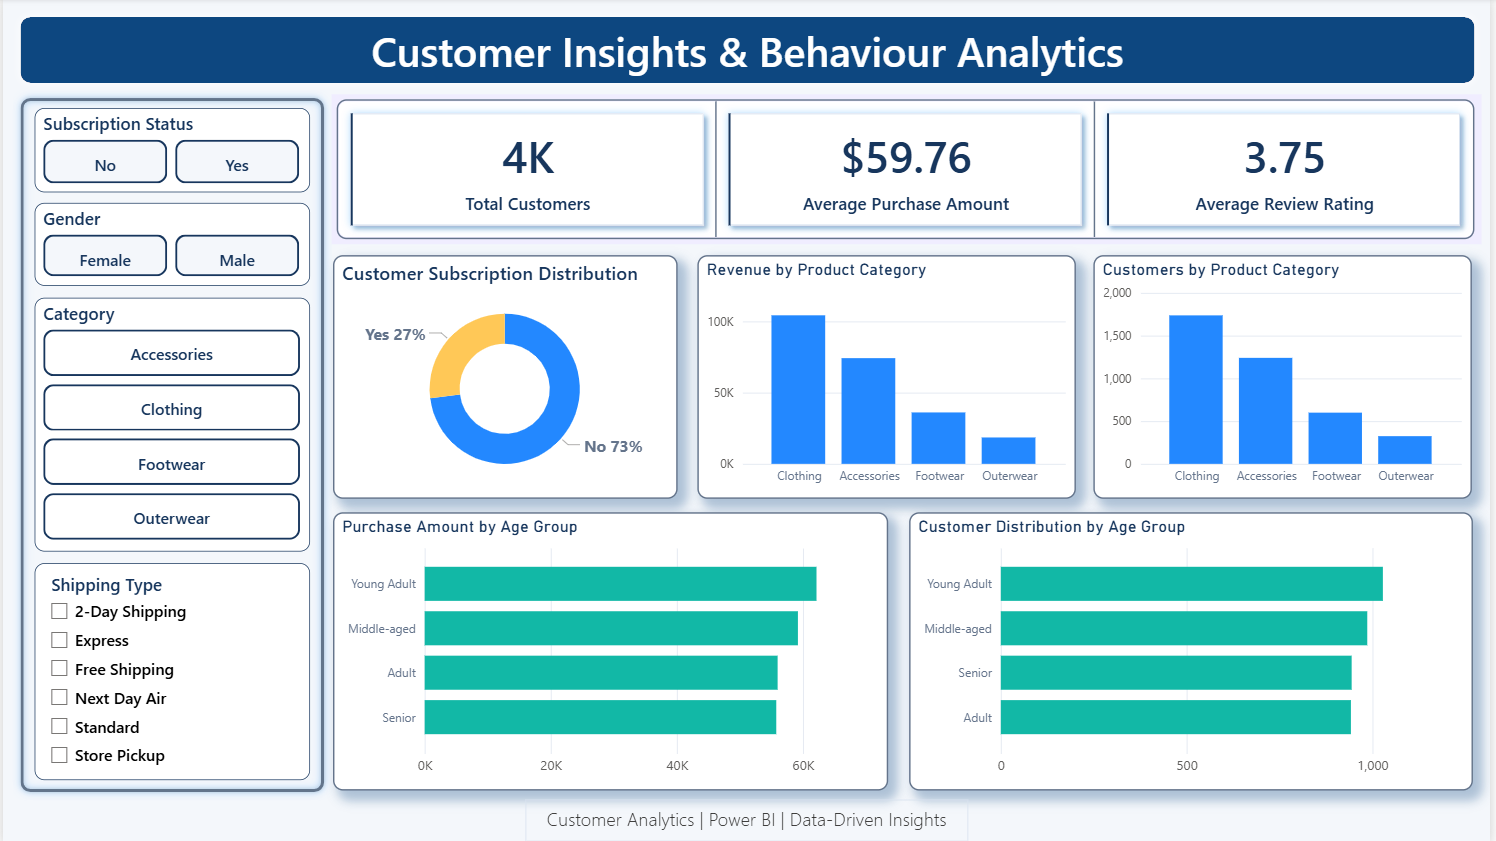

The dashboard page shown, as its layout file describes it:
{"tool":"powerbi","page":{"name":"Customer Insights & Behaviour Analytics","canvas":[1500,855],"ordinal":0},"visuals":[{"type":"shape","box":[9.5,93.4,322.2,716],"z":0},{"type":"cardVisual","fields":{"Data":["Measure_Table.Number of Customers","Measure_Table.Average Purchase Amount","Measure_Table.Average Review Rating"]},"box":[331.6,97.5,1160,151.6],"z":1000},{"type":"donutChart","title":"Customer Subscription Distribution","fields":{"Category":["customer_shopping_data.subscription_status"],"Y":["CountNonNull(customer_shopping_data.customer_id)"]},"box":[332.9,259.1,347.4,246.1],"z":2000},{"type":"clusteredColumnChart","title":"Revenue by Product Category","fields":{"Y":["Sum(customer_shopping_data.purchase_amount)"],"Category":["customer_shopping_data.category"]},"box":[700.6,259.1,382.2,246.1],"z":3000},{"type":"clusteredColumnChart","title":"Customers by Product Category","fields":{"Category":["customer_shopping_data.category"],"Y":["CountNonNull(customer_shopping_data.customer_id)"]},"box":[1100.2,259.1,382.2,246.1],"z":4000},{"type":"advancedSlicerVisual","title":"Subscription Status","fields":{"Values":["customer_shopping_data.subscription_status"]},"box":[32.5,111,277.5,85.3],"z":5000},{"type":"advancedSlicerVisual","title":"Gender","fields":{"Values":["customer_shopping_data.gender"]},"box":[32.5,207.1,277.5,83.9],"z":6000},{"type":"advancedSlicerVisual","title":"Category","fields":{"Values":["customer_shopping_data.category"]},"box":[31.8,302.5,277.9,256.2],"z":7000},{"type":"slicer","fields":{"Values":["customer_shopping_data.shipping_type"]},"box":[31.8,570.4,277.9,218.6],"z":8000},{"type":"clusteredBarChart","title":"Purchase Amount by Age Group","fields":{"Y":["Sum(customer_shopping_data.purchase_amount)"],"Category":["customer_shopping_data.age_group"]},"box":[332.9,518.2,560.2,280.8],"z":9000},{"type":"clusteredBarChart","title":"Customer Distribution by Age Group","fields":{"Y":["CountNonNull(customer_shopping_data.customer_id)"],"Category":["customer_shopping_data.age_group"]},"box":[913.4,518.2,568.9,280.8],"z":10000},{"type":"shape","box":[9.4,10.9,1482.6,82.6],"z":11000},{"type":"textbox","box":[526.8,809,446.8,42.3],"z":12000}]}

Visuals, with their boxes in screenshot pixels (x1, y1, x2, y2), scaled from the page's 1500x855 canvas onto the 1496x841 screenshot:
shape: <region>9, 92, 331, 796</region>
cardVisual - Measure_Table.Number of Customers x Measure_Table.Average Purchase Amount: <region>331, 96, 1488, 245</region>
"Customer Subscription Distribution" donutChart: <region>332, 255, 678, 497</region>
"Revenue by Product Category" clusteredColumnChart: <region>699, 255, 1080, 497</region>
"Customers by Product Category" clusteredColumnChart: <region>1097, 255, 1478, 497</region>
"Subscription Status" advancedSlicerVisual: <region>32, 109, 309, 193</region>
"Gender" advancedSlicerVisual: <region>32, 204, 309, 286</region>
"Category" advancedSlicerVisual: <region>32, 298, 309, 550</region>
slicer - customer_shopping_data.shipping_type: <region>32, 561, 309, 776</region>
"Purchase Amount by Age Group" clusteredBarChart: <region>332, 510, 891, 786</region>
"Customer Distribution by Age Group" clusteredBarChart: <region>911, 510, 1478, 786</region>
shape: <region>9, 11, 1488, 92</region>
textbox: <region>525, 796, 971, 837</region>
